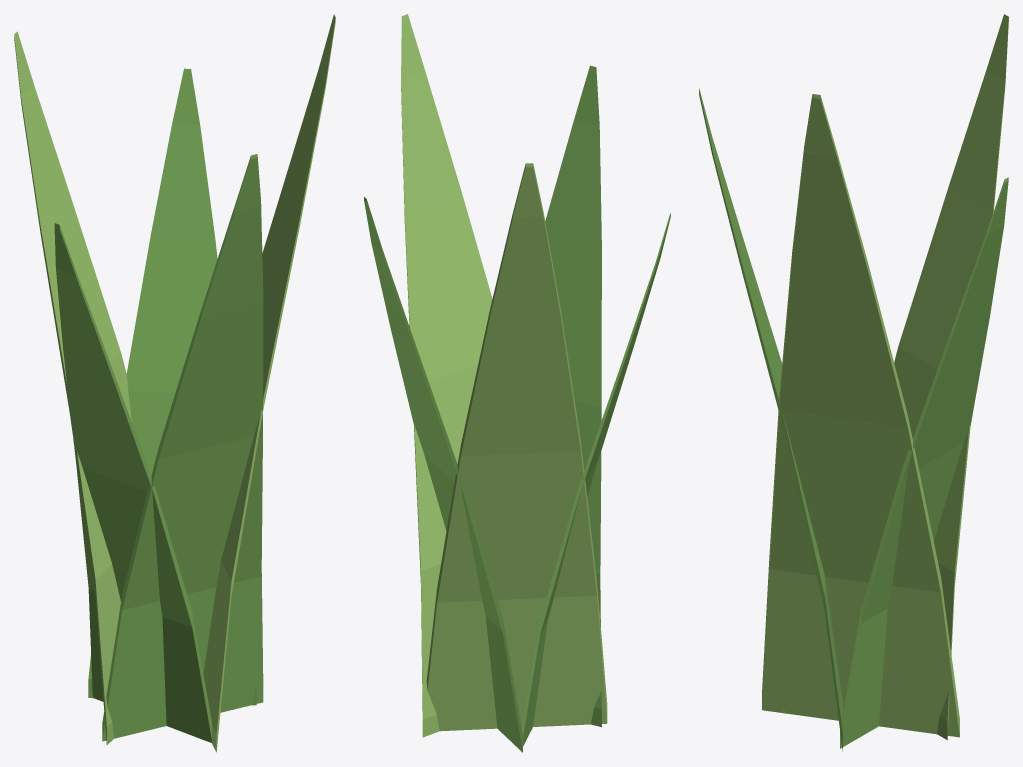
File: SM_Grass_Short_Test.fbx
The picture shows the model from 3 angles, left to right: view 1: azimuth 30°, elevation 25°; view 2: azimuth 150°, elevation 25°; view 3: azimuth 270°, elevation 25°; orthographic projection. The views are drawn at different scales.
Visible parts, largest first — view 1: SM_Grass_Short_Test; view 2: SM_Grass_Short_Test; view 3: SM_Grass_Short_Test.
Part boxes in pixels (x1,y1,x2,y2): SM_Grass_Short_Test: (14,14,335,752); SM_Grass_Short_Test: (364,14,670,752); SM_Grass_Short_Test: (699,14,1008,751).
Bounding box in the file's own units: 0.1878 × 0.4373 × 0.1787.
